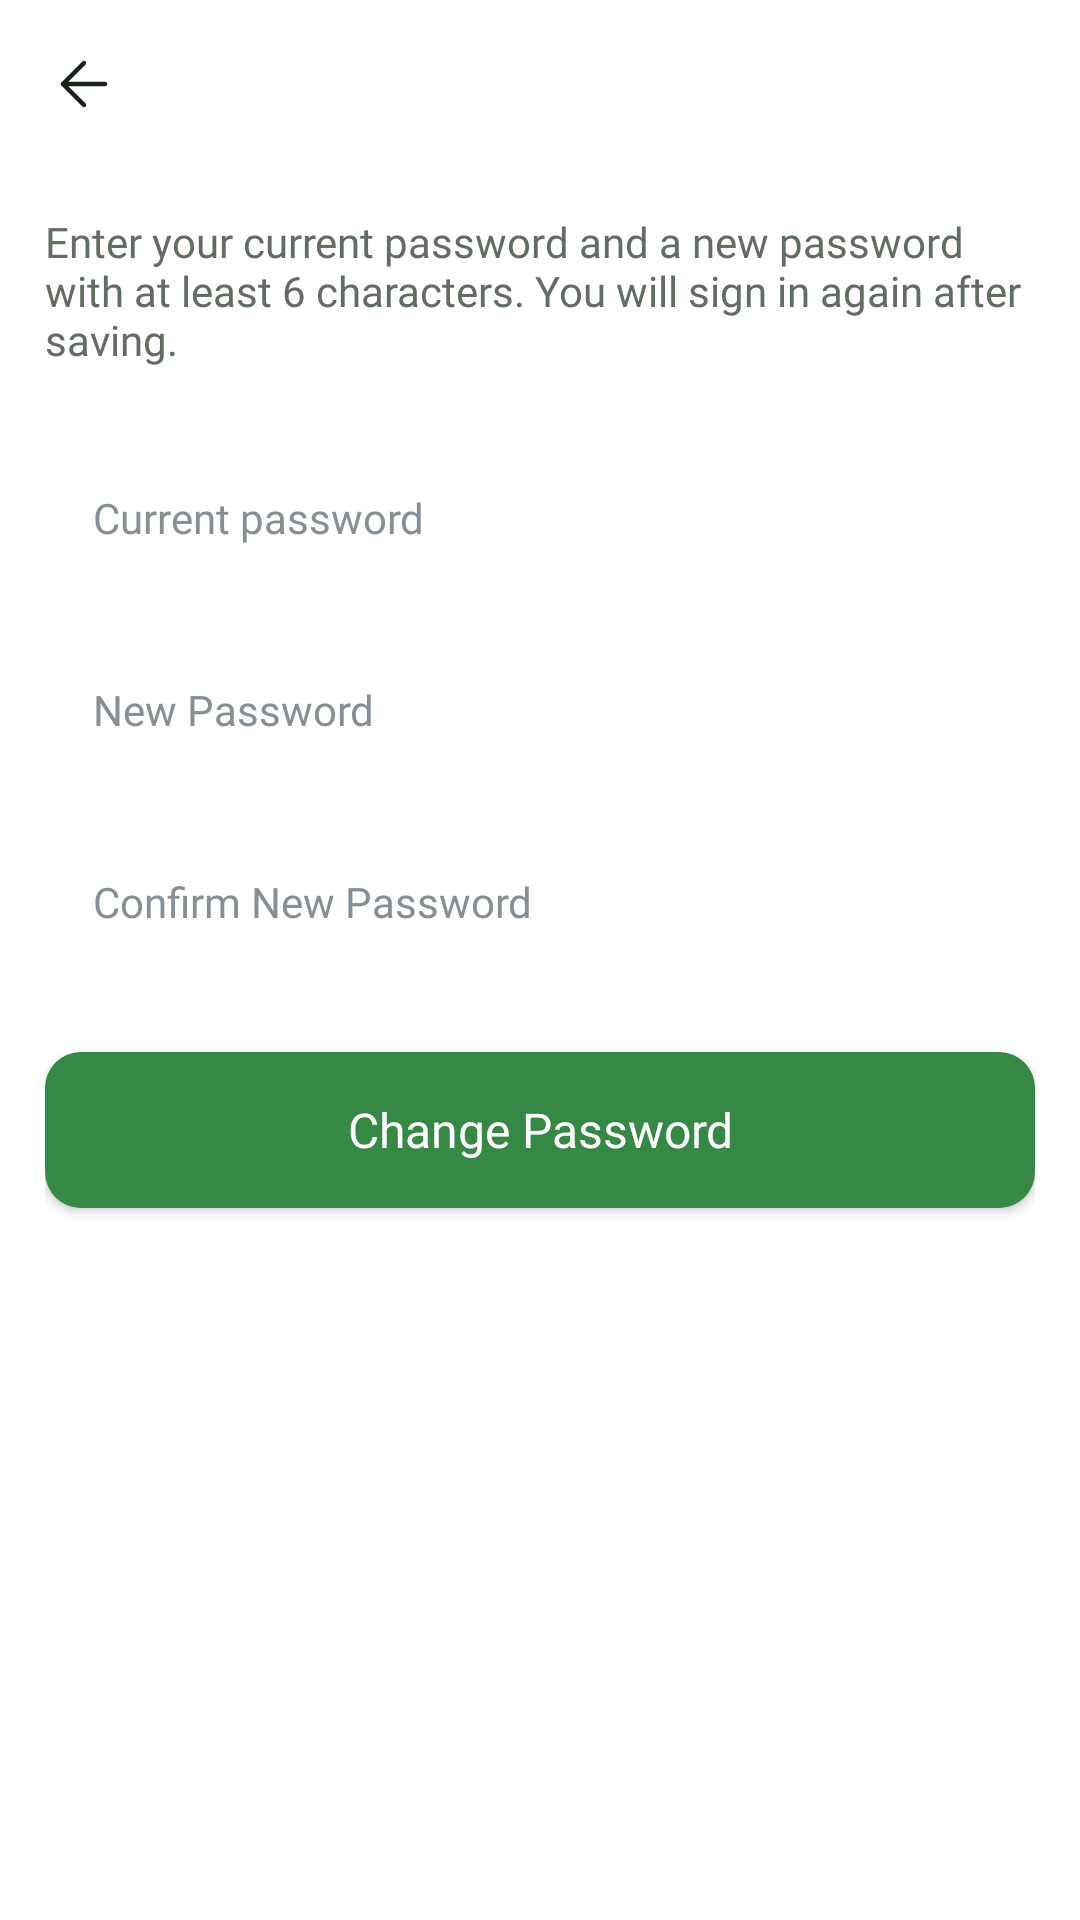

Screen size 1080 × 1920. Icon name, then its center in pixels as [x,y]:
Back: [83,84]
